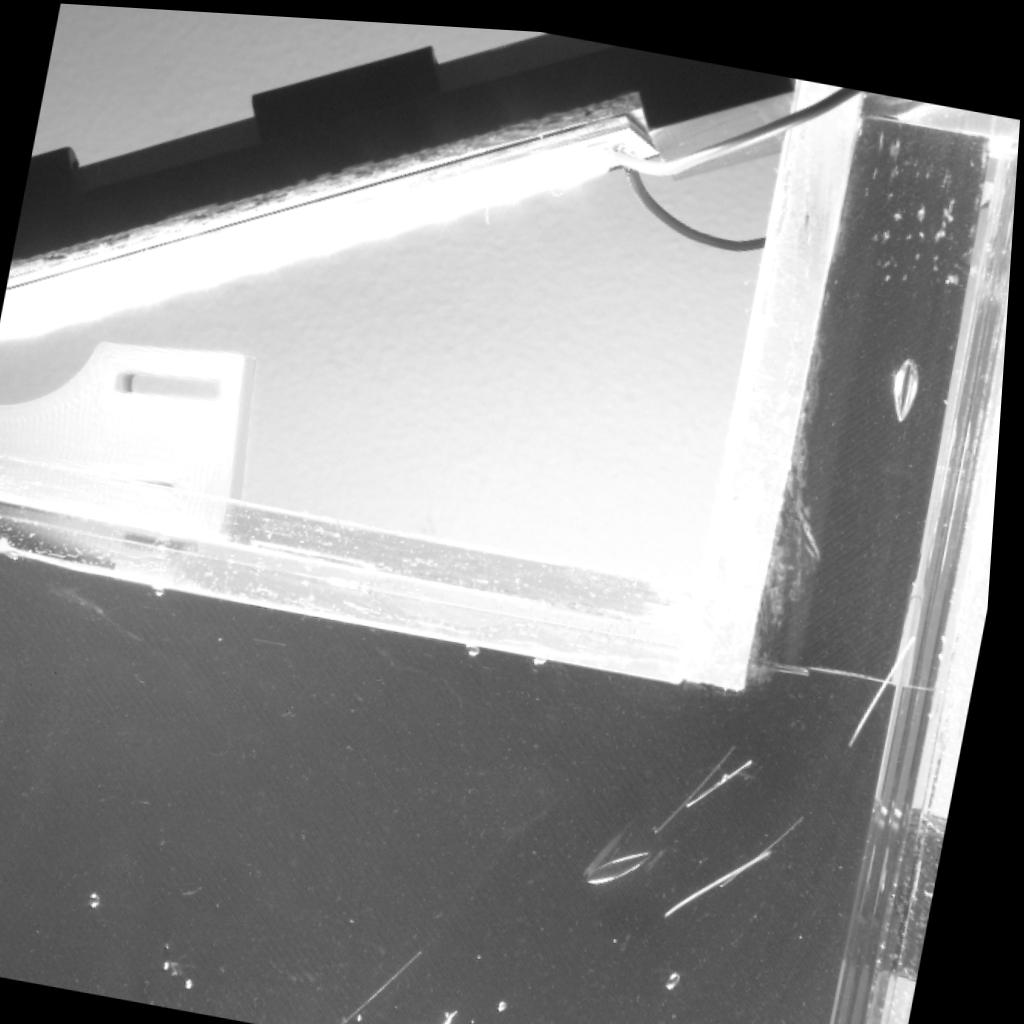Fiber: (854, 618, 931, 741), (673, 839, 788, 911), (718, 803, 817, 883), (347, 941, 439, 1024), (669, 735, 749, 824), (690, 747, 766, 802), (448, 999, 474, 1024), (450, 999, 466, 1024)
